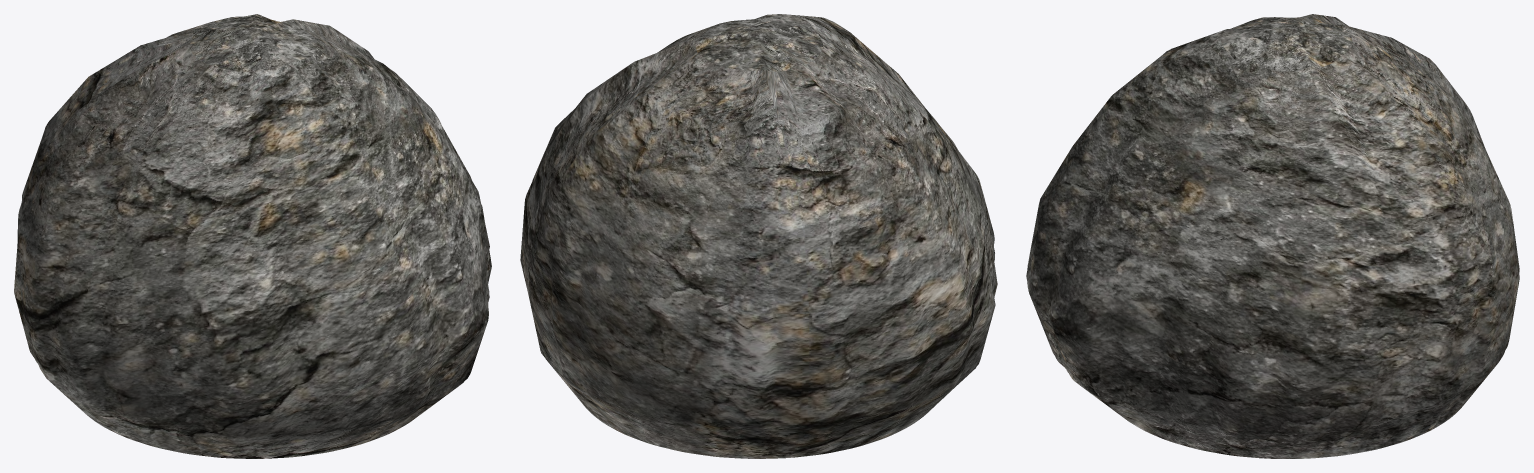
Rendered from Rock.obj.
3 views of the same model, side by side, from view 1: azimuth 30°, elevation 25°; view 2: azimuth 150°, elevation 25°; view 3: azimuth 270°, elevation 25° (orthographic).
Visible parts, largest first — view 1: Cone; view 2: Cone; view 3: Cone.
Part boxes in pixels (x1=…): Cone: x1=14, y1=14, x2=491, y2=458; Cone: x1=520, y1=14, x2=997, y2=458; Cone: x1=1026, y1=14, x2=1519, y2=458.
Bounding box in the file's own units: 2.69 × 2.09 × 2.65.
Materials: 1 (1 with a texture image).
